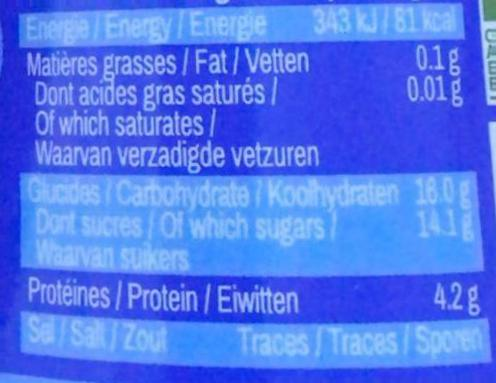column: (25, 7, 387, 362), (396, 7, 486, 363)
line: (29, 78, 470, 170), (26, 212, 475, 266), (27, 319, 487, 360), (26, 6, 458, 42), (28, 280, 481, 314), (25, 176, 474, 205), (27, 46, 467, 75)
table: (12, 8, 491, 369)
